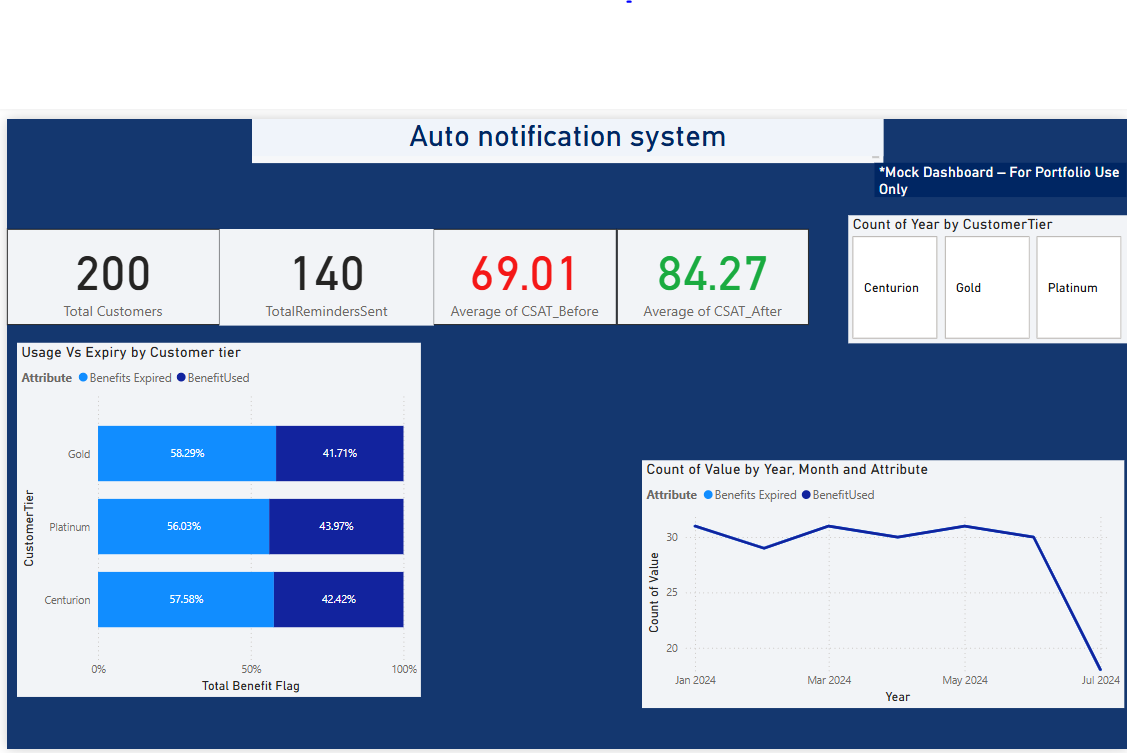

This screenshot's page, from the dashboard's own definition file:
{"tool":"powerbi","page":{"name":"Page 1","canvas":[1280,720],"ordinal":0},"visuals":[{"type":"card","fields":{"Values":["Table1.Total Customers"]},"box":[0,125,242.9,109.5],"z":0},{"type":"card","fields":{"Values":["Table1.Average of CSAT_Before"]},"box":[486.9,125,209.5,109.5],"z":1000},{"type":"card","fields":{"Values":["Table1.Average of CSAT_After"]},"box":[696.4,125,219,109.5],"z":2000},{"type":"card","fields":{"Values":["Table1.TotalRemindersSent"]},"box":[242.5,125,245,110],"z":3000},{"type":"hundredPercentStackedBarChart","title":"Usage Vs Expiry by Customer tier","fields":{"Category":["Table1.CustomerTier"],"Series":["Table1.Attribute"],"Y":["Table1.Total Benefit Flag"]},"box":[11.9,256,461.9,404.8],"z":4000},{"type":"textbox","title":"Auto notification system","box":[279.8,0,721.4,50],"z":5000},{"type":"textbox","title":"*Mock Dashboard – For Portfolio Use Only","box":[991.7,50,288.1,39.3],"z":6000},{"type":"advancedSlicerVisual","fields":{"Values":["Table1.CustomerTier"]},"box":[960.7,109.5,319,146.4],"z":7000},{"type":"lineChart","fields":{"Category":["Table1.BenefitIssuedDate.Variation.Date Hierarchy.Year","Table1.BenefitIssuedDate.Variation.Date Hierarchy.Month","Table1.BenefitIssuedDate.Variation.Date Hierarchy.Day"],"Y":["Table1.Value"],"Series":["Table1.Attribute"]},"box":[726.2,389.3,551.2,283.3],"z":8000}]}

Visuals, with their boxes in screenshot pixels (x1, y1, x2, y2):
card - Table1.Total Customers: select_region(6, 226, 217, 321)
card - Table1.Average of CSAT_Before: select_region(429, 226, 611, 321)
card - Table1.Average of CSAT_After: select_region(611, 226, 801, 321)
card - Table1.TotalRemindersSent: select_region(216, 226, 429, 321)
"Usage Vs Expiry by Customer tier" hundredPercentStackedBarChart: select_region(16, 340, 417, 691)
"Auto notification system" textbox: select_region(249, 117, 875, 161)
"*Mock Dashboard – For Portfolio Use Only" textbox: select_region(867, 161, 1117, 195)
advancedSlicerVisual - Table1.CustomerTier: select_region(840, 212, 1117, 340)
lineChart - Table1.BenefitIssuedDate.Variation.Date Hierarchy.Year x Table1.BenefitIssuedDate.Variation.Date Hierarchy.Month: select_region(636, 455, 1115, 701)
